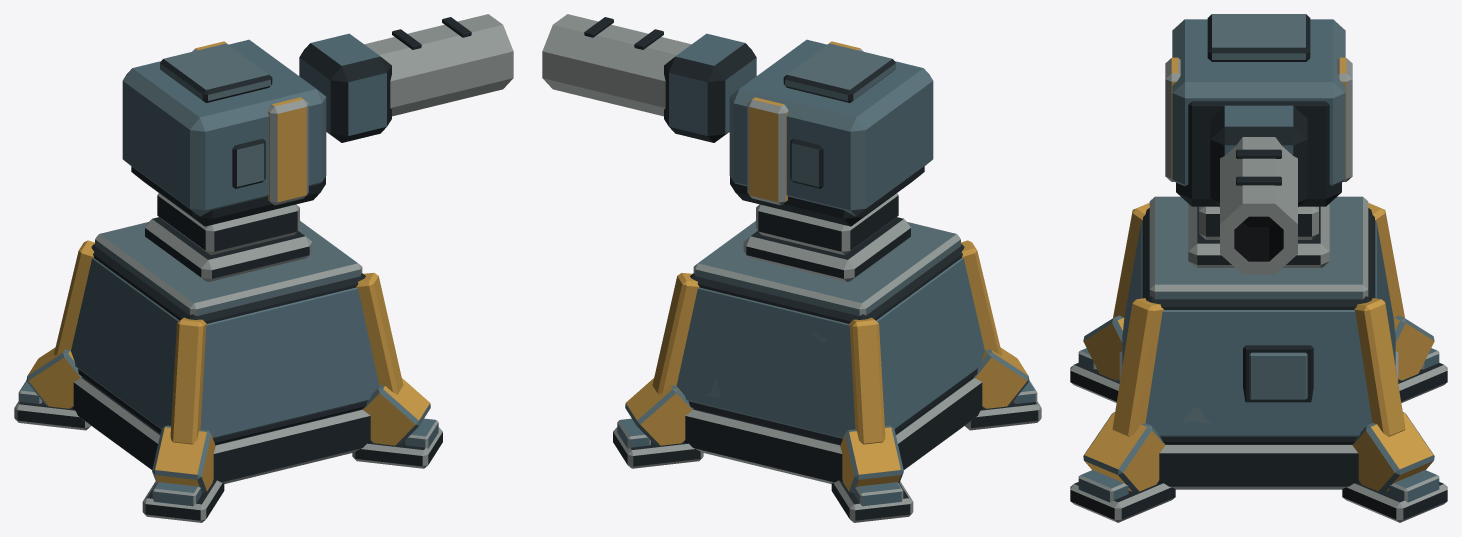
The model's file is gun_tower.glb.
3 views of the same model, side by side, from view 1: azimuth 30°, elevation 25°; view 2: azimuth 150°, elevation 25°; view 3: azimuth 270°, elevation 25° (orthographic). The views are drawn at different scales.
Parts seen in each view (by area): view 1: Tapered petrol armour, Gun breech armour, Ground plinth, Top rim, Hollow octagonal cannon, Barrel jacket, Pedestal dark seams, Yaw bearing lower, Breech top cover, Gun yaw bearing, Gun cheek plate -0.238, Corner ochre rail -1 -1 (+12 smaller); view 2: Tapered petrol armour, Gun breech armour, Ground plinth, Top rim, Hollow octagonal cannon, Barrel jacket, Pedestal dark seams, Yaw bearing lower, Breech top cover, Gun yaw bearing, Gun cheek plate 0.238, Corner ochre rail -1 +1 (+12 smaller); view 3: Tapered petrol armour, Top rim, Gun breech armour, Ground plinth, Hollow octagonal cannon, Gun breech underbody, Pedestal dark seams, Breech top cover, Barrel jacket, Corner ochre rail +1 +1, Corner ochre rail +1 -1, Folding leg +1 +1 (+19 smaller).
Part boxes in pixels (box(x1,y1,x2,y2)): Tapered petrol armour: box(71, 258, 379, 438); Gun breech armour: box(122, 39, 326, 216); Ground plinth: box(72, 377, 372, 483); Top rim: box(95, 221, 362, 316); Hollow octagonal cannon: box(364, 14, 513, 116); Barrel jacket: box(299, 33, 391, 142); Pedestal dark seams: box(78, 244, 367, 444); Yaw bearing lower: box(145, 217, 312, 281); Breech top cover: box(160, 43, 272, 102); Gun yaw bearing: box(157, 193, 299, 255); Gun cheek plate -0.238: box(267, 97, 308, 205); Corner ochre rail -1 -1: box(170, 317, 206, 444); Tapered petrol armour: box(676, 258, 984, 438); Gun breech armour: box(729, 39, 933, 216); Ground plinth: box(683, 377, 983, 483); Top rim: box(693, 221, 960, 316); Hollow octagonal cannon: box(542, 14, 691, 116); Barrel jacket: box(664, 33, 756, 142); Pedestal dark seams: box(688, 244, 977, 444); Yaw bearing lower: box(743, 217, 910, 281); Breech top cover: box(783, 43, 895, 102); Gun yaw bearing: box(756, 193, 898, 255); Gun cheek plate 0.238: box(747, 97, 788, 205); Corner ochre rail -1 +1: box(849, 317, 885, 444); Tapered petrol armour: box(1122, 221, 1395, 436); Top rim: box(1149, 196, 1368, 299); Gun breech armour: box(1172, 19, 1345, 186); Ground plinth: box(1119, 351, 1398, 489); Hollow octagonal cannon: box(1220, 137, 1297, 274); Gun breech underbody: box(1176, 101, 1341, 206); Pedestal dark seams: box(1142, 208, 1375, 444); Breech top cover: box(1207, 14, 1310, 61); Barrel jacket: box(1210, 105, 1307, 206); Corner ochre rail +1 +1: box(1354, 298, 1405, 436); Corner ochre rail +1 -1: box(1112, 298, 1163, 436); Folding leg +1 +1: box(1352, 412, 1434, 491).
Bounding box in the file's own units: 1.49 × 1.27 × 1.07.
